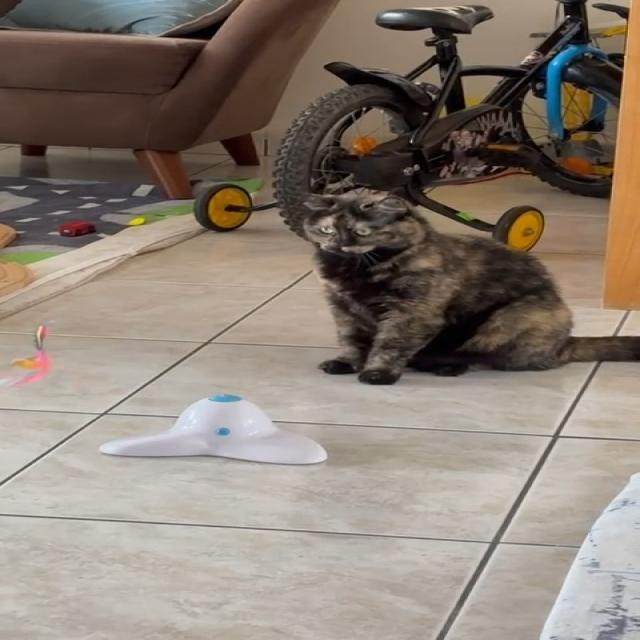authorized: (296, 186, 639, 385)
